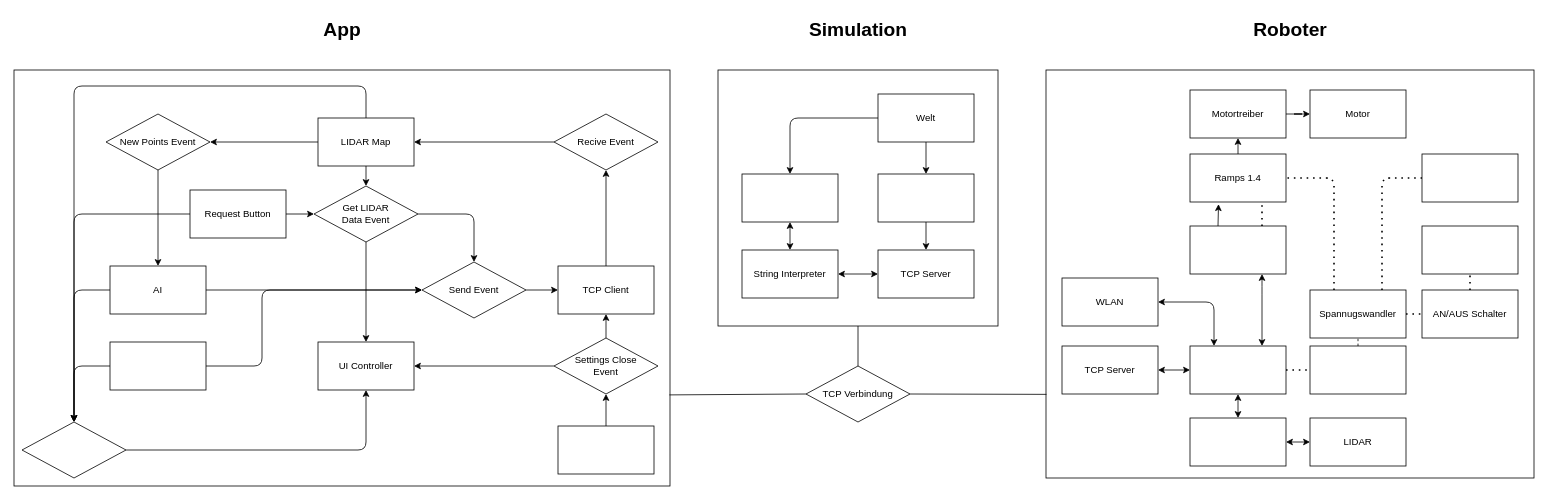
Some shapes in this 1548 by 500 pixel diagram are drawn without their labels. The shapes that lost their labels are listed below. From the top down, each one's box as (x1, y1, x2, y2) in pixels, then its label:
(741, 173, 838, 222): Auto
(877, 173, 974, 222): Raycaster
(1421, 153, 1518, 202): Lüfter
(1189, 225, 1286, 274): Arduino
(1421, 225, 1518, 274): Akkus
(109, 341, 206, 390): Joy Stick
(1189, 345, 1286, 394): Raspberry Pi
(1309, 345, 1406, 394): USB Strom Konverter
(21, 421, 126, 478): Log Event
(557, 425, 654, 474): Settings Page
(1189, 417, 1286, 466): LIDAR USB Data Konverter
